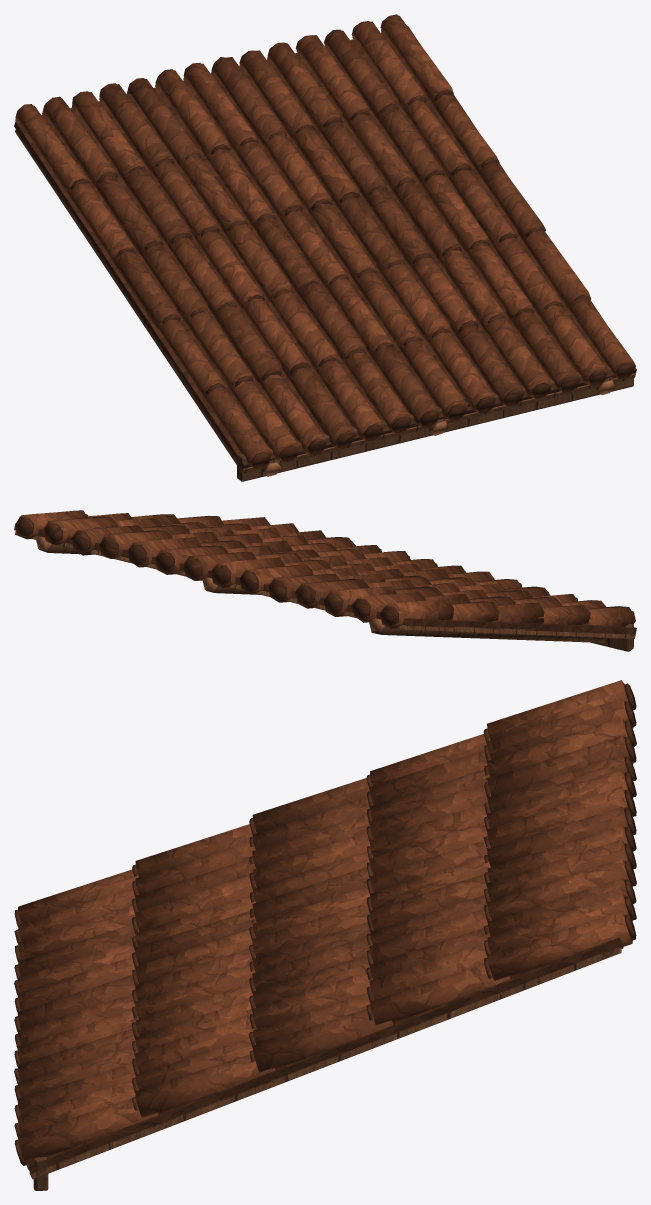
The model's file is roof_26__clay_brick.glb.
3 views of the same model, one above another, from view 1: azimuth 30°, elevation 25°; view 2: azimuth 150°, elevation 25°; view 3: azimuth 270°, elevation 25° (orthographic). The views are drawn at different scales.
Visible parts, largest first — view 1: model; view 2: model; view 3: model.
Boxes of the visible parts, x1=… form: model: x1=14, y1=14, x2=636, y2=481; model: x1=14, y1=510, x2=636, y2=651; model: x1=14, y1=680, x2=636, y2=1190.
Bounding box in the file's own units: 2 × 1.02 × 2.12.
Materials: 7 (7 with a texture image).
